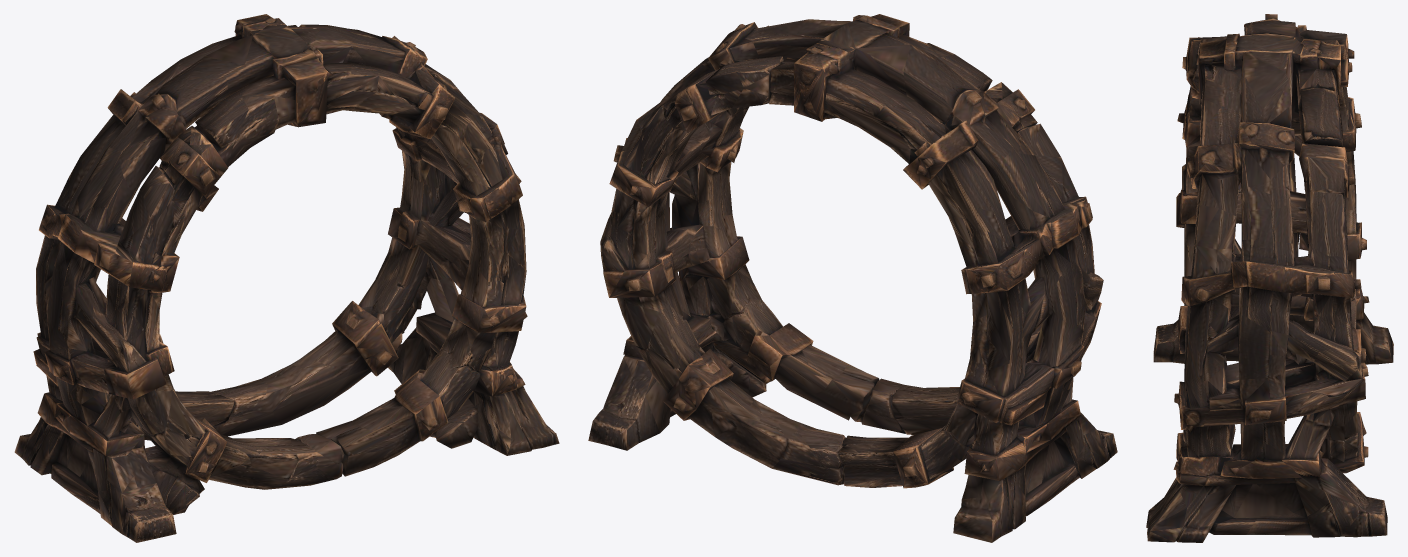
File: timber-tunnel-rib.glb
The picture shows the model from 3 angles, left to right: view 1: azimuth 30°, elevation 25°; view 2: azimuth 150°, elevation 25°; view 3: azimuth 270°, elevation 25°; orthographic projection. The views are drawn at different scales.
Parts seen in each view (by area): view 1: timber-tunnel-rib_LOD0; view 2: timber-tunnel-rib_LOD0; view 3: timber-tunnel-rib_LOD0.
Part boxes in pixels (x1,y1,x2,y2): timber-tunnel-rib_LOD0: (14, 14, 559, 542); timber-tunnel-rib_LOD0: (588, 14, 1117, 542); timber-tunnel-rib_LOD0: (1146, 14, 1393, 542).
Size of what is drawn, in the model's own units: 1.9 by 1.67 by 0.9324.
1 material, 1 textured.
